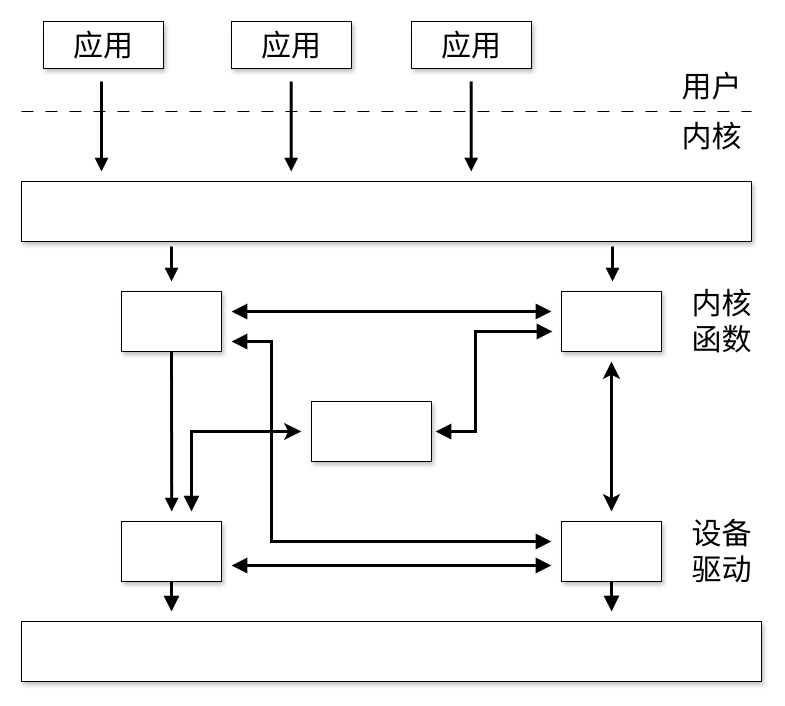
This 785x706 diagram has some shape labels left out. The centre of each missing label's shape, as x and y in pixels:
硬件: point (392, 652)
系统调用接口: point (387, 212)
